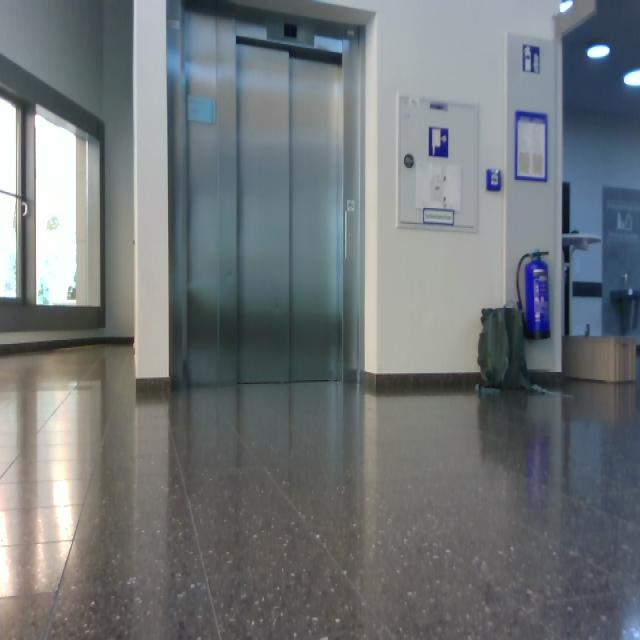door: (169, 4, 366, 388), (236, 37, 344, 385)
fire extinguisher: (517, 249, 551, 340)
light bulb: (587, 44, 610, 60), (623, 69, 640, 88), (559, 1, 574, 14), (47, 216, 60, 230), (22, 201, 29, 217)
tiled floor: (2, 341, 639, 638)
window: (1, 72, 105, 330)
